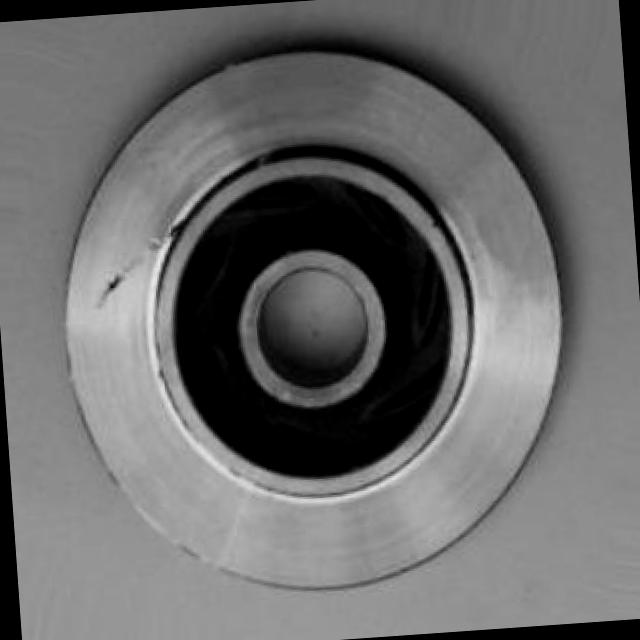Defect: (90, 259, 138, 307)
